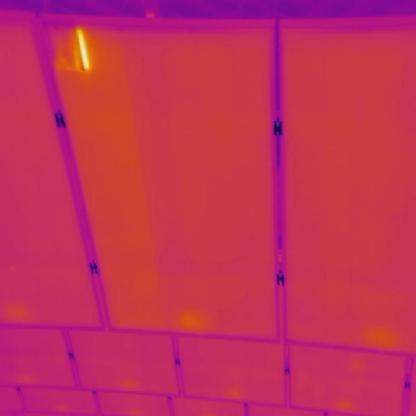anomaly: (67, 25, 94, 74)
